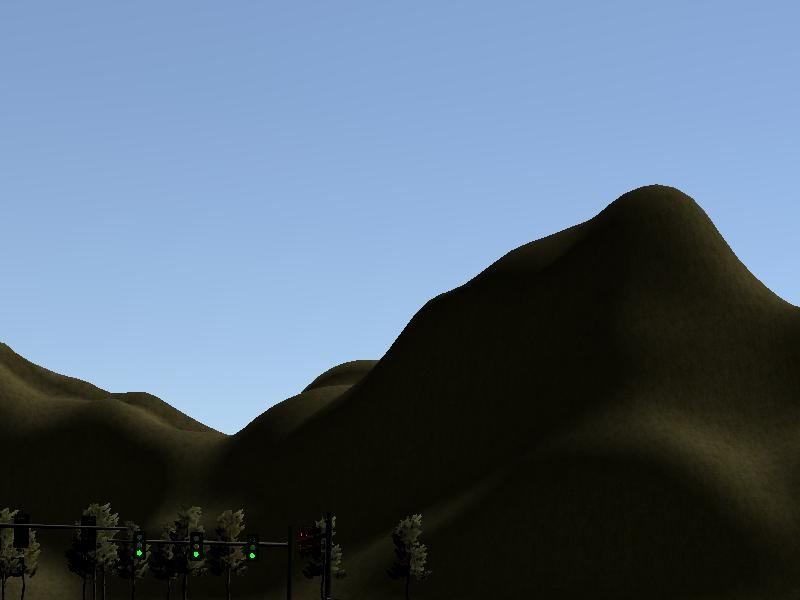GREEN: (187, 527, 206, 562), (130, 525, 147, 561), (243, 533, 260, 563)
